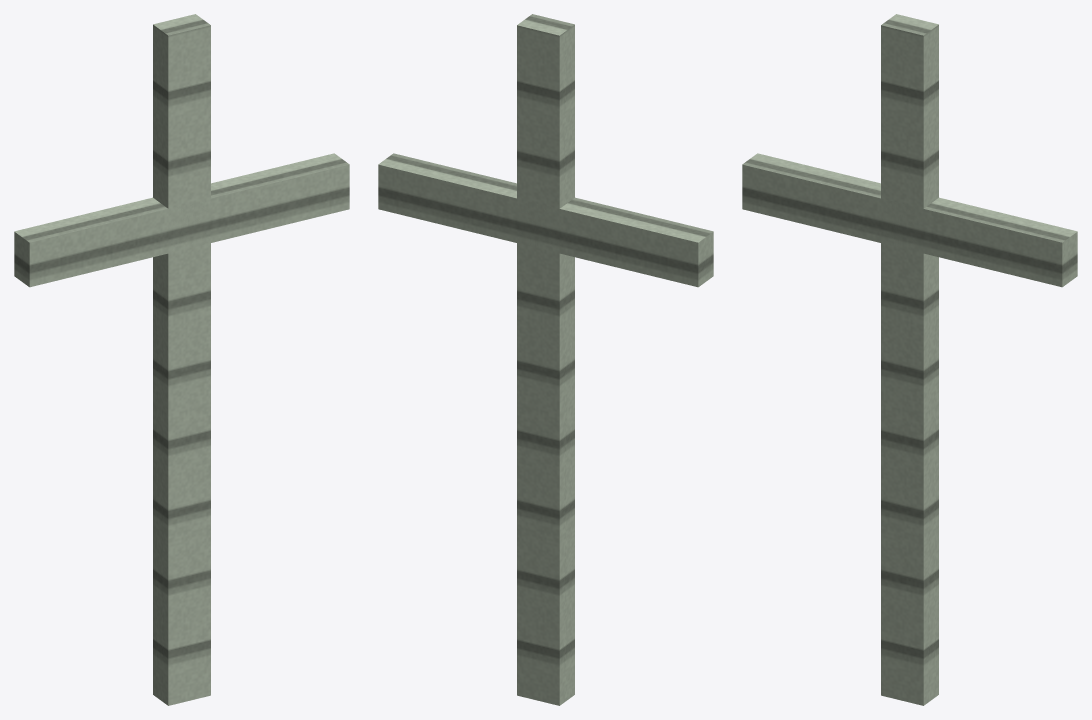
Rendered from cross_crucifix.glb.
The picture shows the model from 3 angles, left to right: view 1: azimuth 30°, elevation 25°; view 2: azimuth 150°, elevation 25°; view 3: azimuth 330°, elevation 25°; orthographic projection.
Parts seen in each view (by area): view 1: cross_crucifix-col; view 2: cross_crucifix-col; view 3: cross_crucifix-col.
Boxes of the visible parts, x1,y1,x2,y2 form: cross_crucifix-col: [14, 14, 349, 705]; cross_crucifix-col: [378, 14, 713, 705]; cross_crucifix-col: [742, 14, 1077, 705].
Bounding box in the file's own units: 0.6 × 1.2 × 0.05.
1 material, 1 textured.
